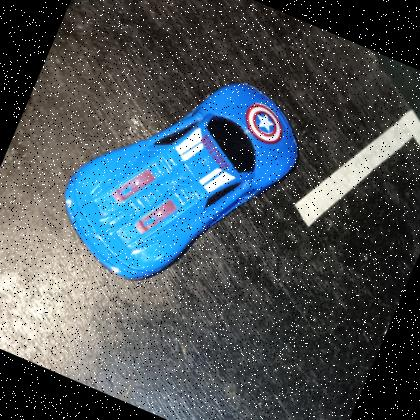Car: (38, 31, 318, 327)
